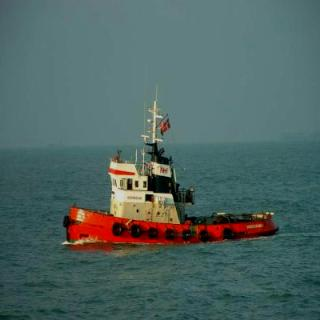Tug Boat: (61, 106, 272, 244)
